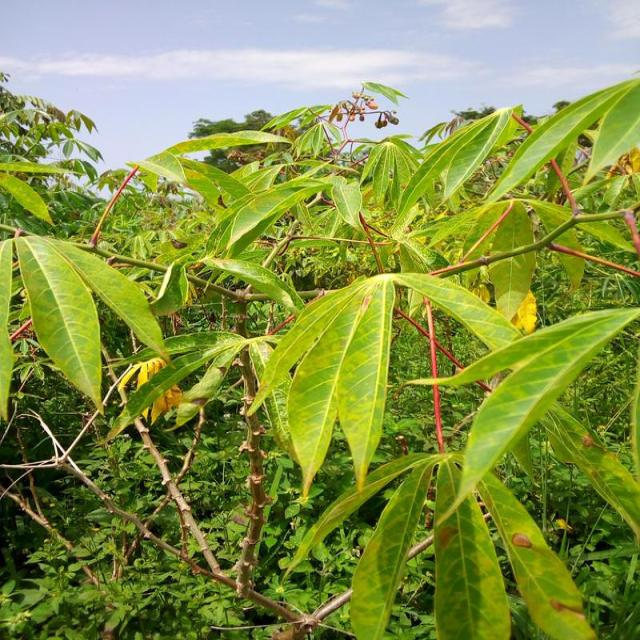cassava leaf: (444, 304, 638, 518), (13, 231, 168, 418), (432, 452, 510, 638)
